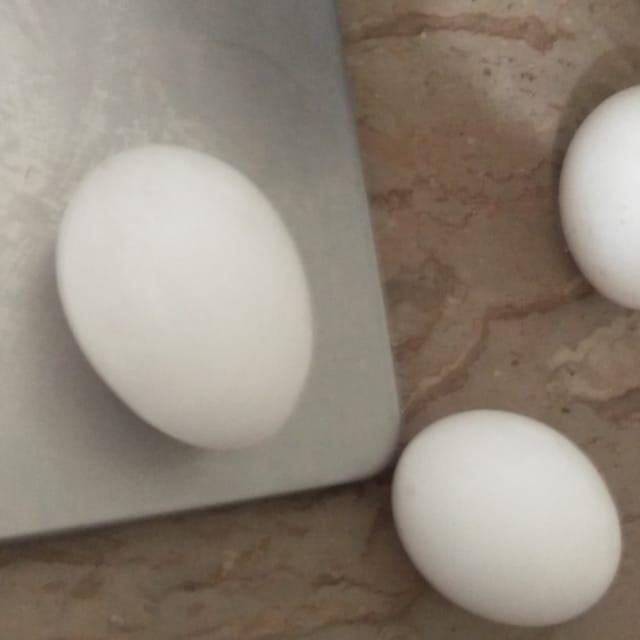egg: (58, 143, 320, 491), (390, 410, 635, 640), (560, 75, 640, 321)
